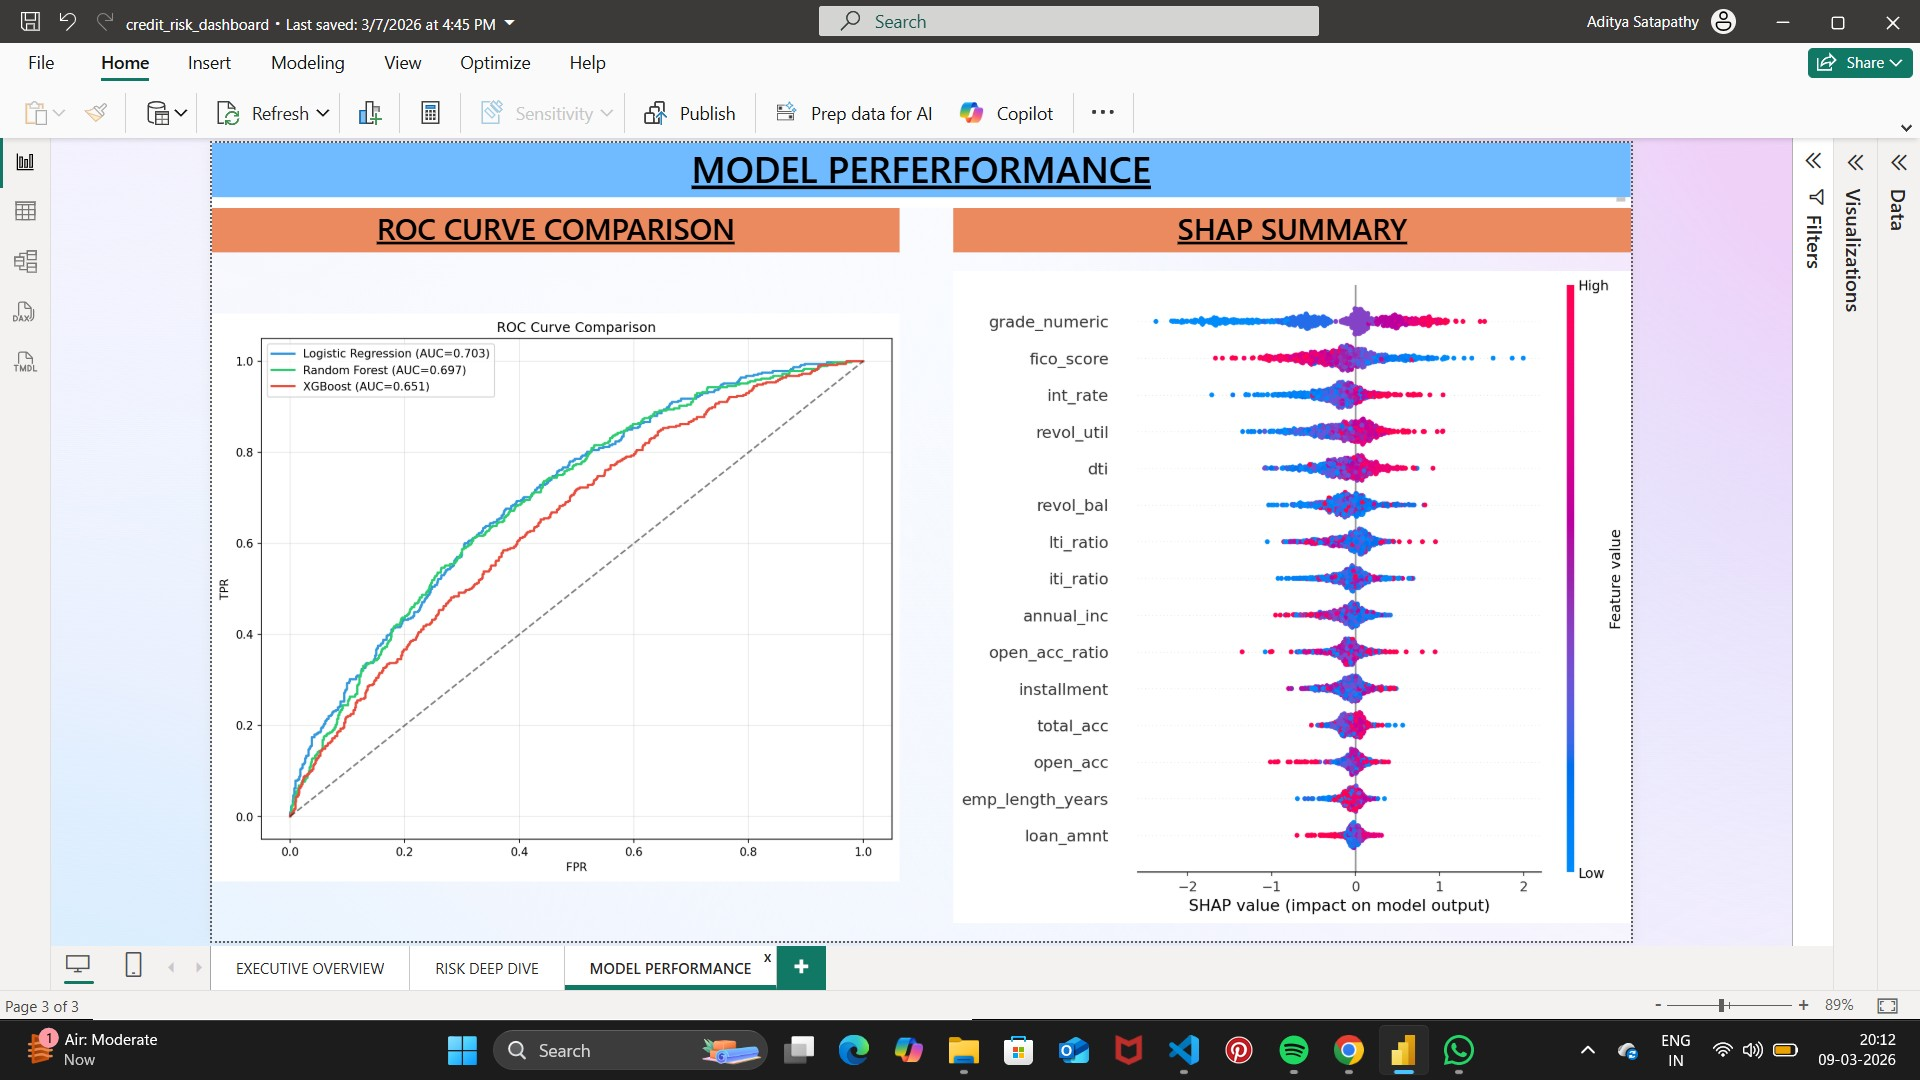

The page's visual inventory and layout, read from the dashboard file:
{"tool":"powerbi","page":{"name":"MODEL PERFORMANCE","canvas":[1280,720],"ordinal":2},"visuals":[{"type":"image","title":"ROC CURVE COMPARISON","box":[0,58.1,619.8,661.6],"z":0},{"type":"image","title":"SHAP SUMMARY","box":[668.6,58.1,611.6,661.6],"z":1000},{"type":"textbox","title":"MODEL PERFERFORMANCE","box":[0,0,1279.1,58.1],"z":2000}]}

Visuals, with their boxes on the page's 1280x720 design canvas (x1, y1, x2, y2). These are canvas units, not pixel positions in the 1920x1080 screenshot, which may show the page scaled, cropped or inside an application window:
"ROC CURVE COMPARISON" image: <bbox>0, 58, 620, 720</bbox>
"SHAP SUMMARY" image: <bbox>669, 58, 1280, 720</bbox>
"MODEL PERFERFORMANCE" textbox: <bbox>0, 0, 1279, 58</bbox>
